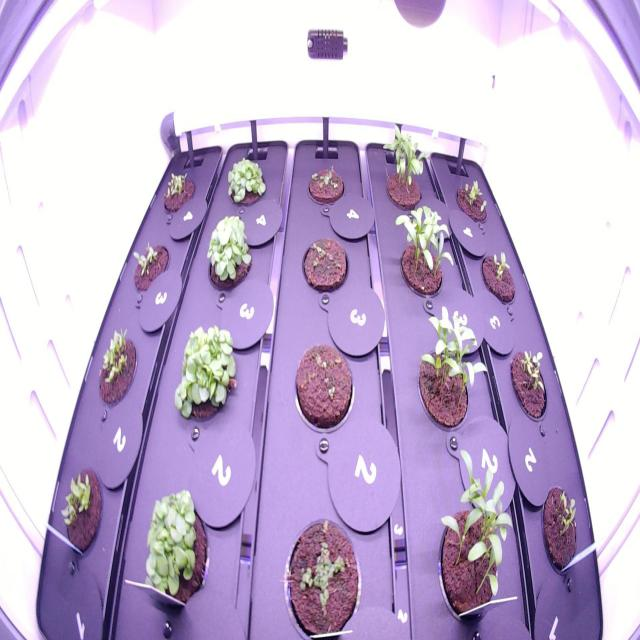germination: (432, 447, 518, 630), (406, 302, 491, 438), (277, 505, 365, 635), (392, 198, 458, 302), (289, 337, 357, 436), (533, 470, 588, 584), (52, 459, 107, 567), (90, 319, 141, 415), (381, 121, 433, 213), (504, 335, 552, 431), (296, 230, 353, 300), (476, 242, 520, 312), (126, 236, 172, 298), (450, 169, 494, 229), (302, 155, 347, 210), (157, 164, 198, 216)
